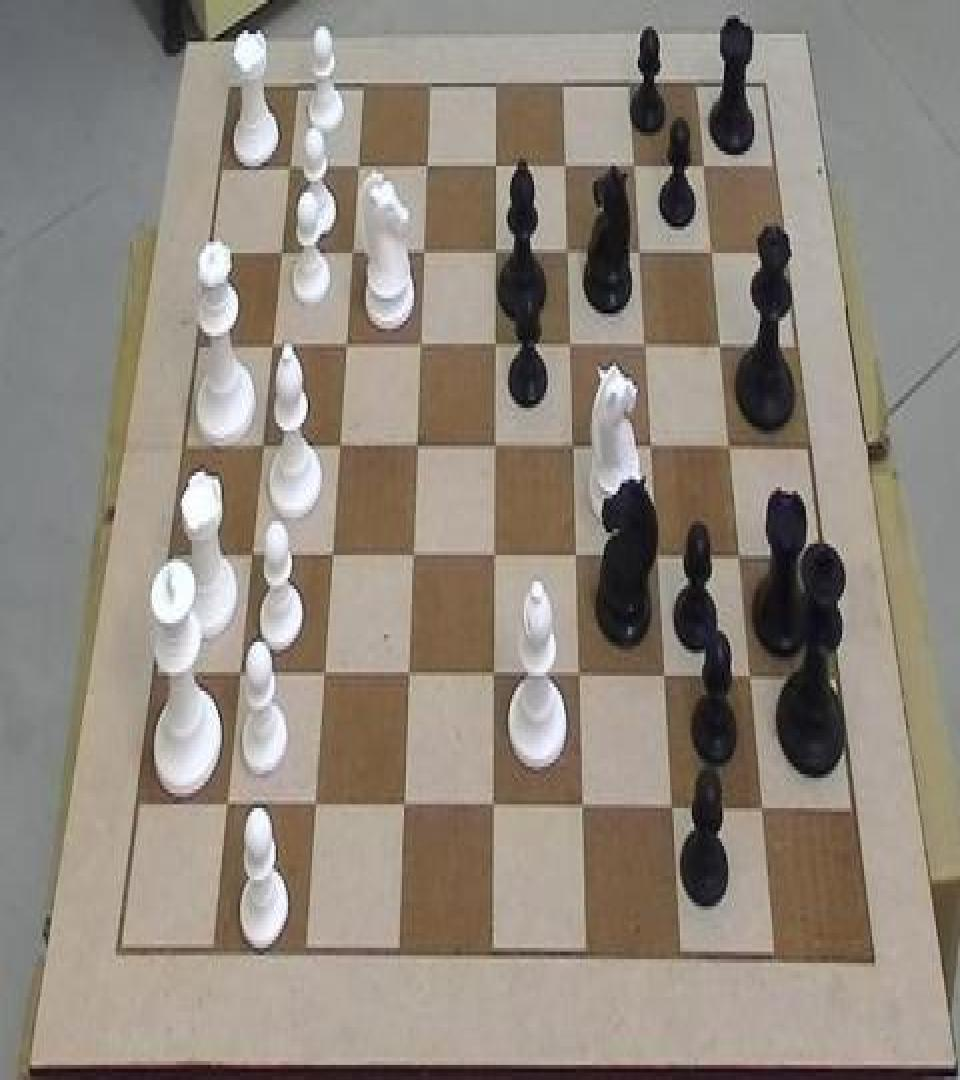xcorner: (711, 330, 731, 369), (694, 149, 714, 187), (625, 149, 645, 187), (555, 149, 575, 187), (486, 149, 506, 187), (416, 147, 436, 185), (347, 147, 367, 185), (278, 147, 298, 185), (702, 236, 722, 274), (630, 236, 650, 274), (558, 234, 578, 272), (485, 234, 505, 272), (413, 234, 433, 272), (341, 234, 361, 272), (270, 232, 290, 270), (636, 328, 656, 366), (561, 328, 581, 366), (485, 328, 505, 366), (410, 326, 430, 364), (336, 326, 356, 364), (261, 324, 281, 362), (721, 430, 741, 468), (642, 430, 662, 468), (564, 428, 584, 466), (485, 428, 505, 466), (407, 428, 427, 466), (329, 426, 349, 464), (251, 426, 271, 464), (731, 542, 751, 580), (649, 540, 669, 578), (567, 540, 587, 578), (485, 538, 505, 576), (404, 538, 424, 576), (322, 536, 342, 574), (241, 536, 261, 574), (742, 662, 762, 700), (656, 660, 676, 698), (571, 660, 591, 698), (485, 659, 505, 697), (400, 657, 420, 695), (314, 657, 334, 695), (229, 655, 249, 693), (755, 795, 775, 833), (665, 793, 685, 831), (575, 793, 595, 831), (485, 791, 505, 829), (395, 789, 415, 827), (306, 789, 326, 827), (217, 787, 237, 825)
